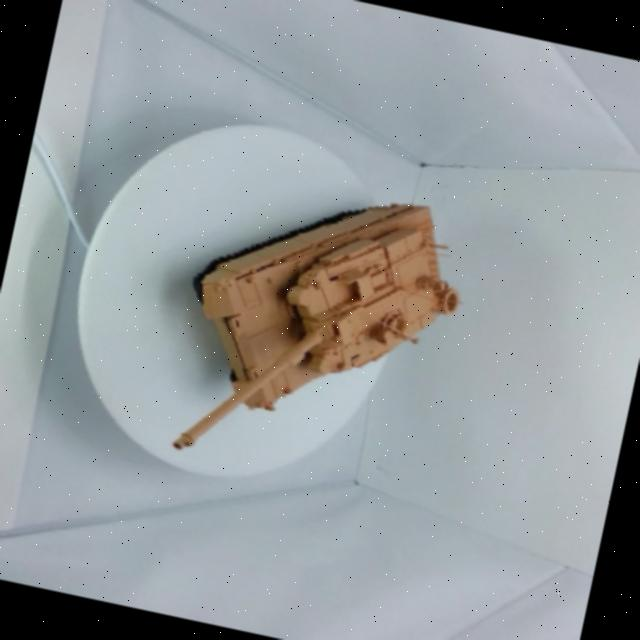korea tank: (122, 138, 510, 510)
